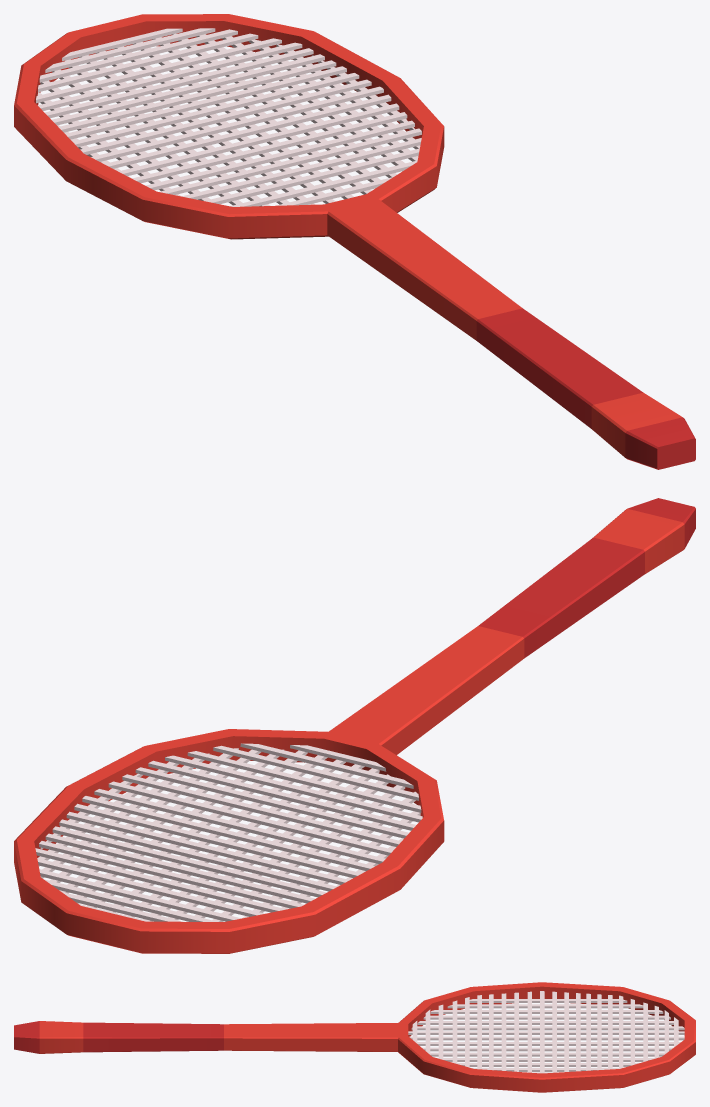
The model's file is Racket_2.fbx.
The picture shows the model from 3 angles, top to bottom: view 1: azimuth 30°, elevation 25°; view 2: azimuth 150°, elevation 25°; view 3: azimuth 270°, elevation 25°; orthographic projection. The views are drawn at different scales.
Visible parts, largest first — view 1: Racket_2; view 2: Racket_2; view 3: Racket_2.
Part boxes in pixels (x1=…): Racket_2: x1=14, y1=14, x2=695, y2=469; Racket_2: x1=14, y1=498, x2=695, y2=953; Racket_2: x1=14, y1=982, x2=695, y2=1092.
Bounding box in the file's own units: 27.09 × 2.2 × 80.34.
1 material, 1 textured.
